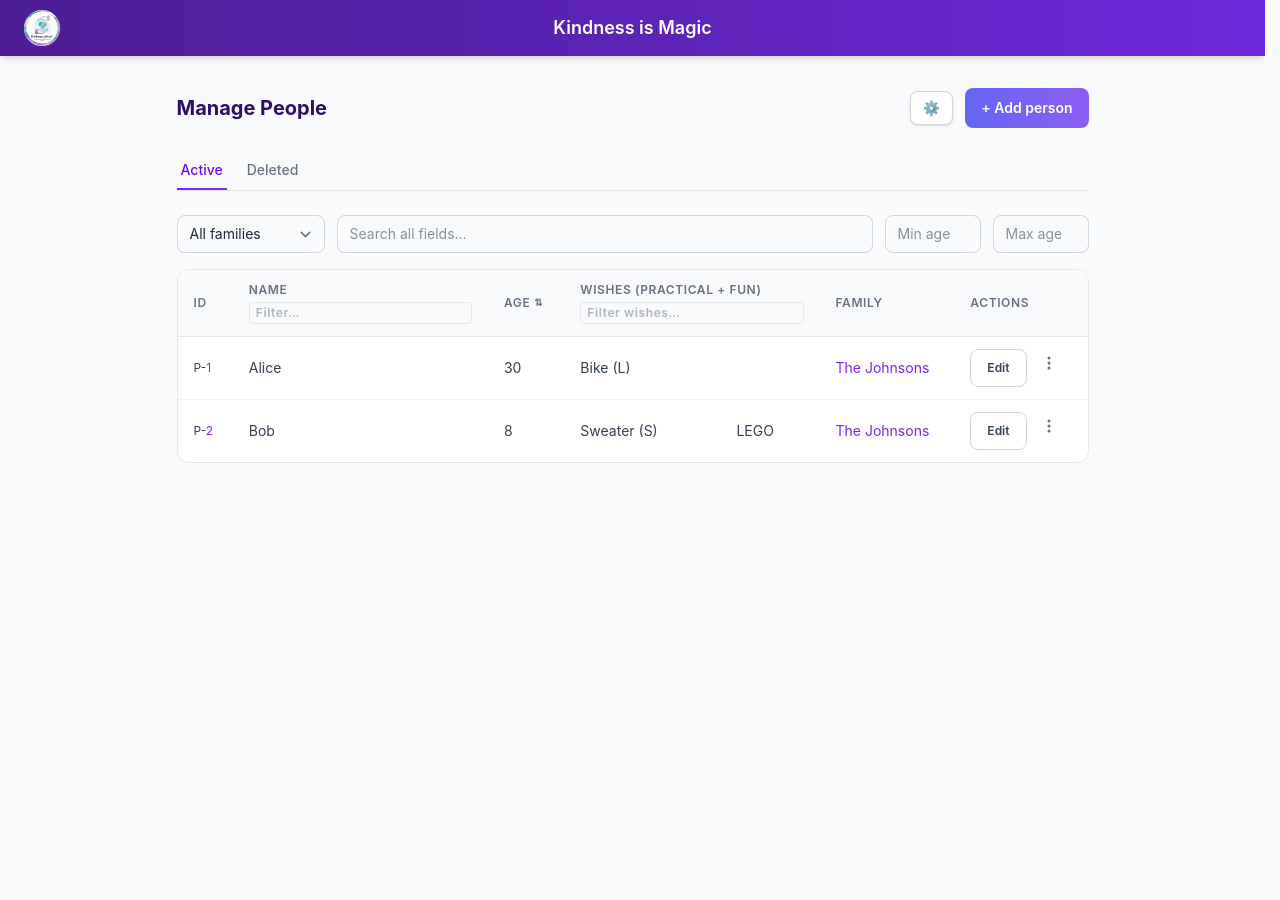
AdminPeople › restore person with deleted family offers to restore the whole family
The image size is (1280, 900).
Expected: the text "Alice" is shown, [233, 336, 488, 400]
What coordinates should you click on to do the following:
click the tab "Deleted"
I would click on:
 (272, 171)
Its box is [243, 152, 302, 190].
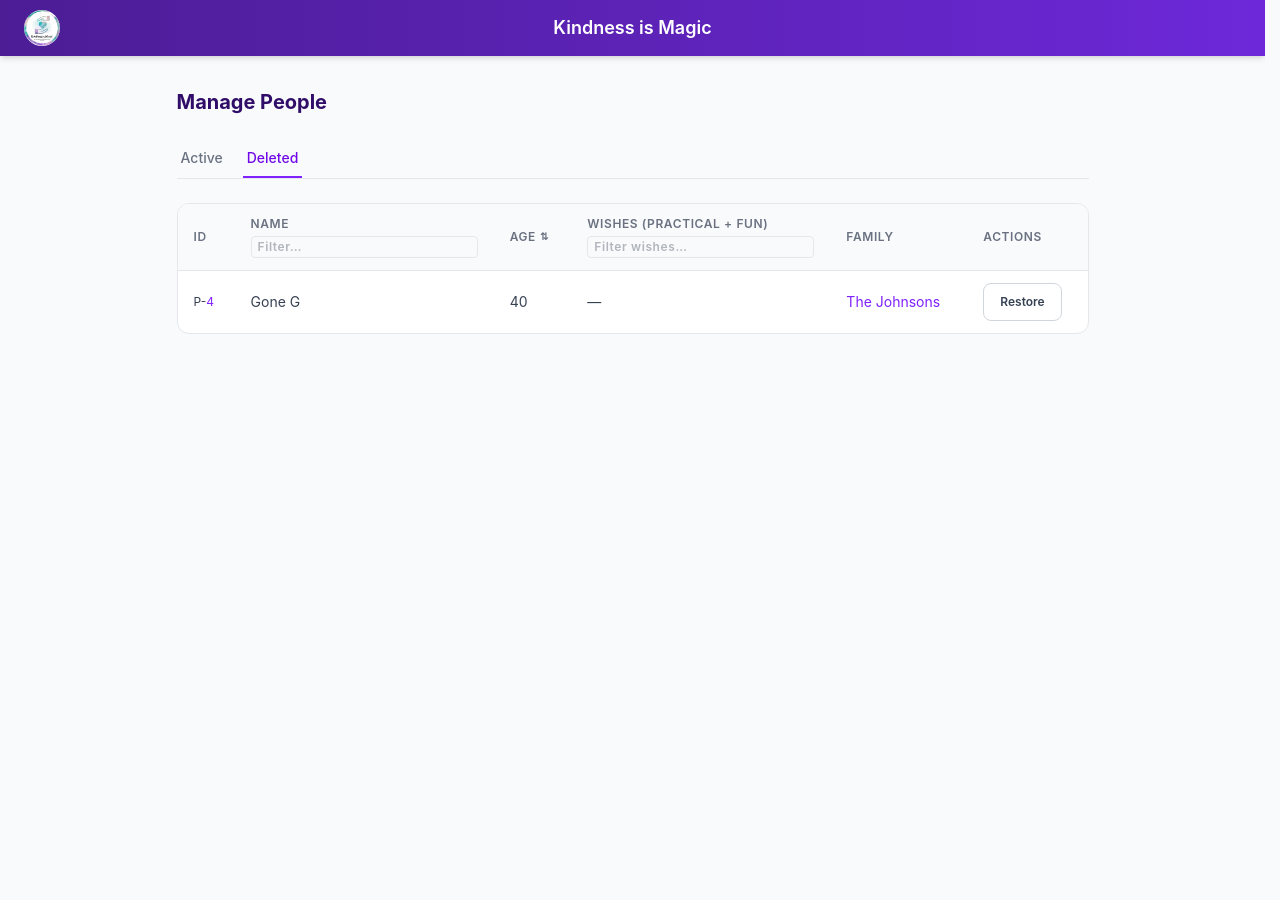
Now the text "Gone G" is shown, box [235, 270, 494, 333]
What coordinates should you click on to do the following:
click the button "Restore"
I would click on:
 (1022, 302)
Its box is [983, 283, 1062, 321].
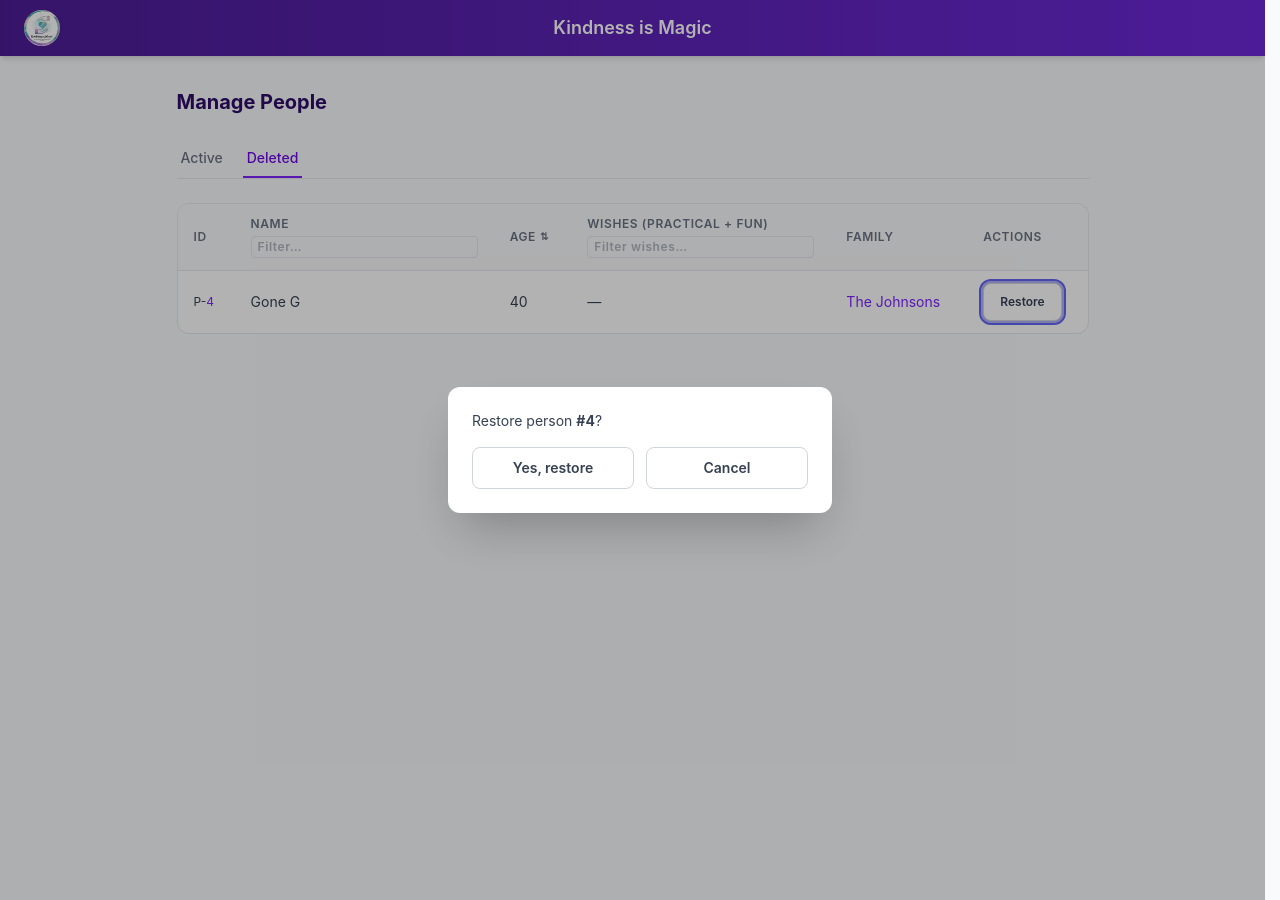
Now the text "Restore person #4?" is shown, box [472, 412, 602, 429]
What coordinates should you click on to do the following:
click the button "Yes, restore"
I would click on:
 (553, 468)
Its box is [472, 447, 634, 489].
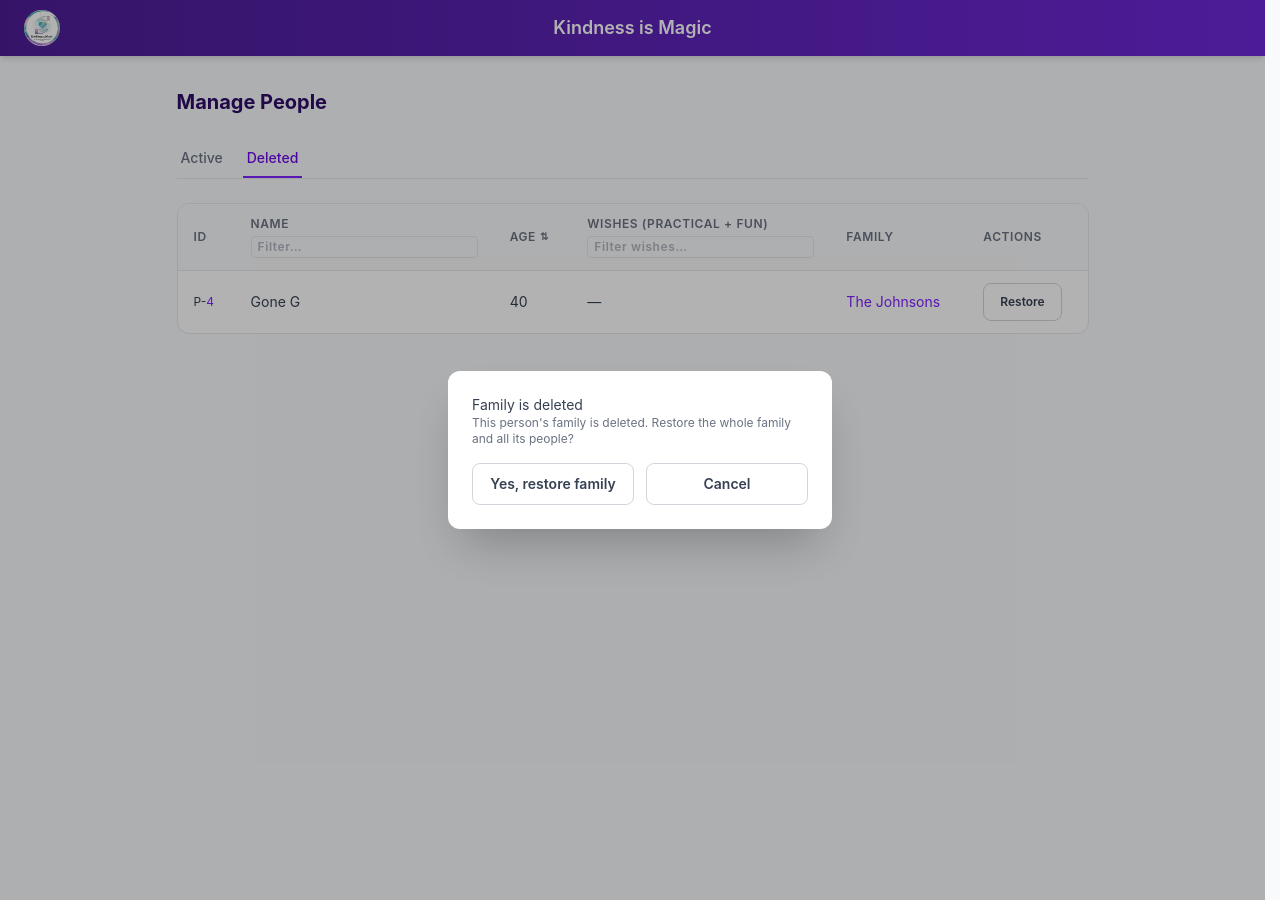
Now the text "Family is deleted" is shown, box [472, 396, 583, 413]
What coordinates should you click on to do the following:
click the button "Yes, restore family"
I would click on:
 (553, 484)
Its box is [472, 463, 634, 505].
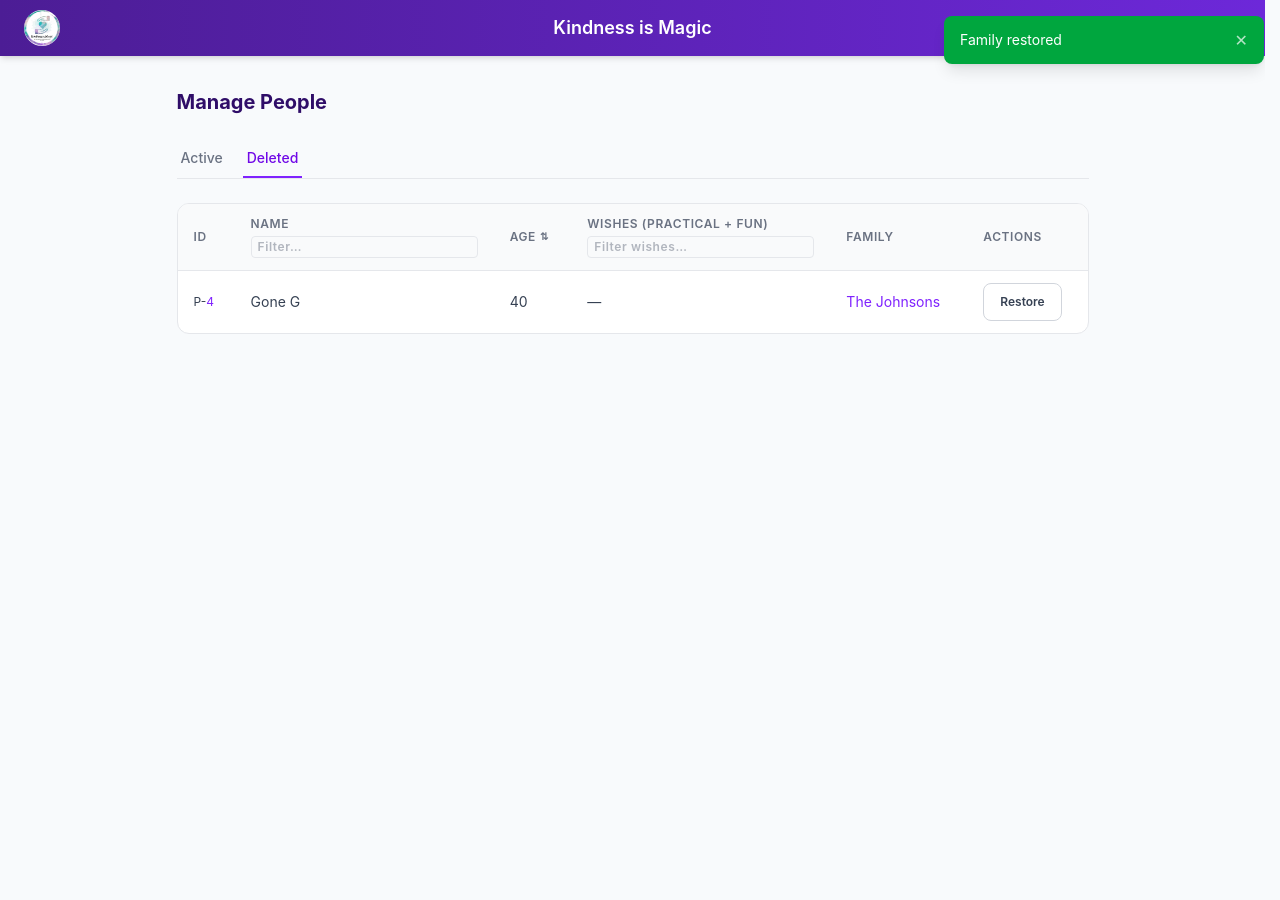
Now the text "Family restored" is shown, box [960, 31, 1062, 48]
